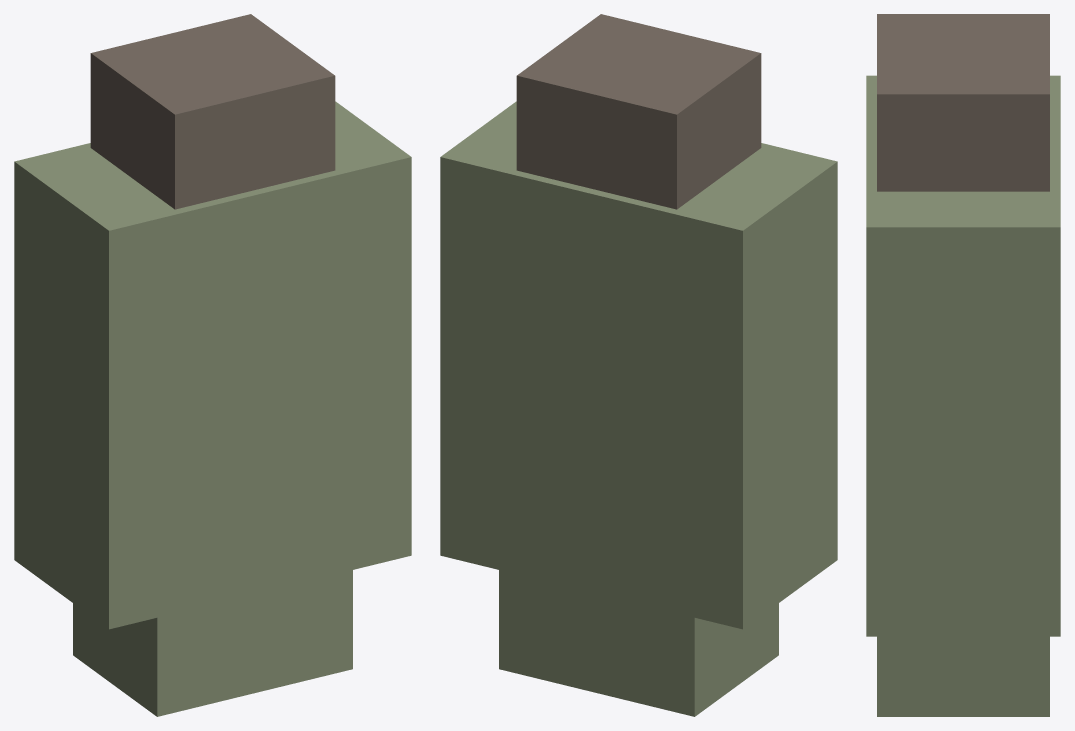
The model's file is iz2_item_rice_bag.glb.
The picture shows the model from 3 angles, left to right: view 1: azimuth 30°, elevation 25°; view 2: azimuth 150°, elevation 25°; view 3: azimuth 270°, elevation 25°; orthographic projection. The views are drawn at different scales.
Parts seen in each view (by area): view 1: body; view 2: body; view 3: body.
Boxes of the visible parts, x1,y1,x2,y2 form: body: (14,14,411,716); body: (440,14,837,716); body: (866,14,1060,716).
Size of the model in its own units: 0.3336 by 0.63 by 0.1809.
